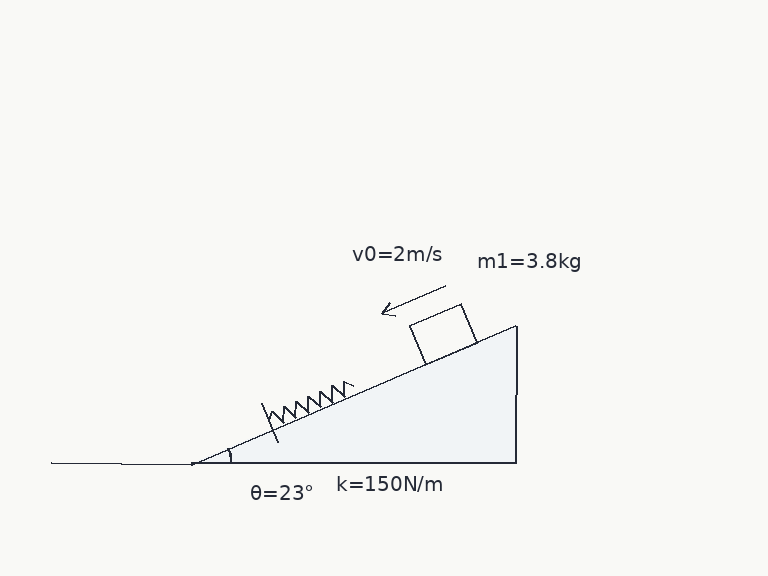block: (407, 302, 478, 366)
ramp: (189, 323, 517, 465)
spring: (266, 379, 355, 424)
